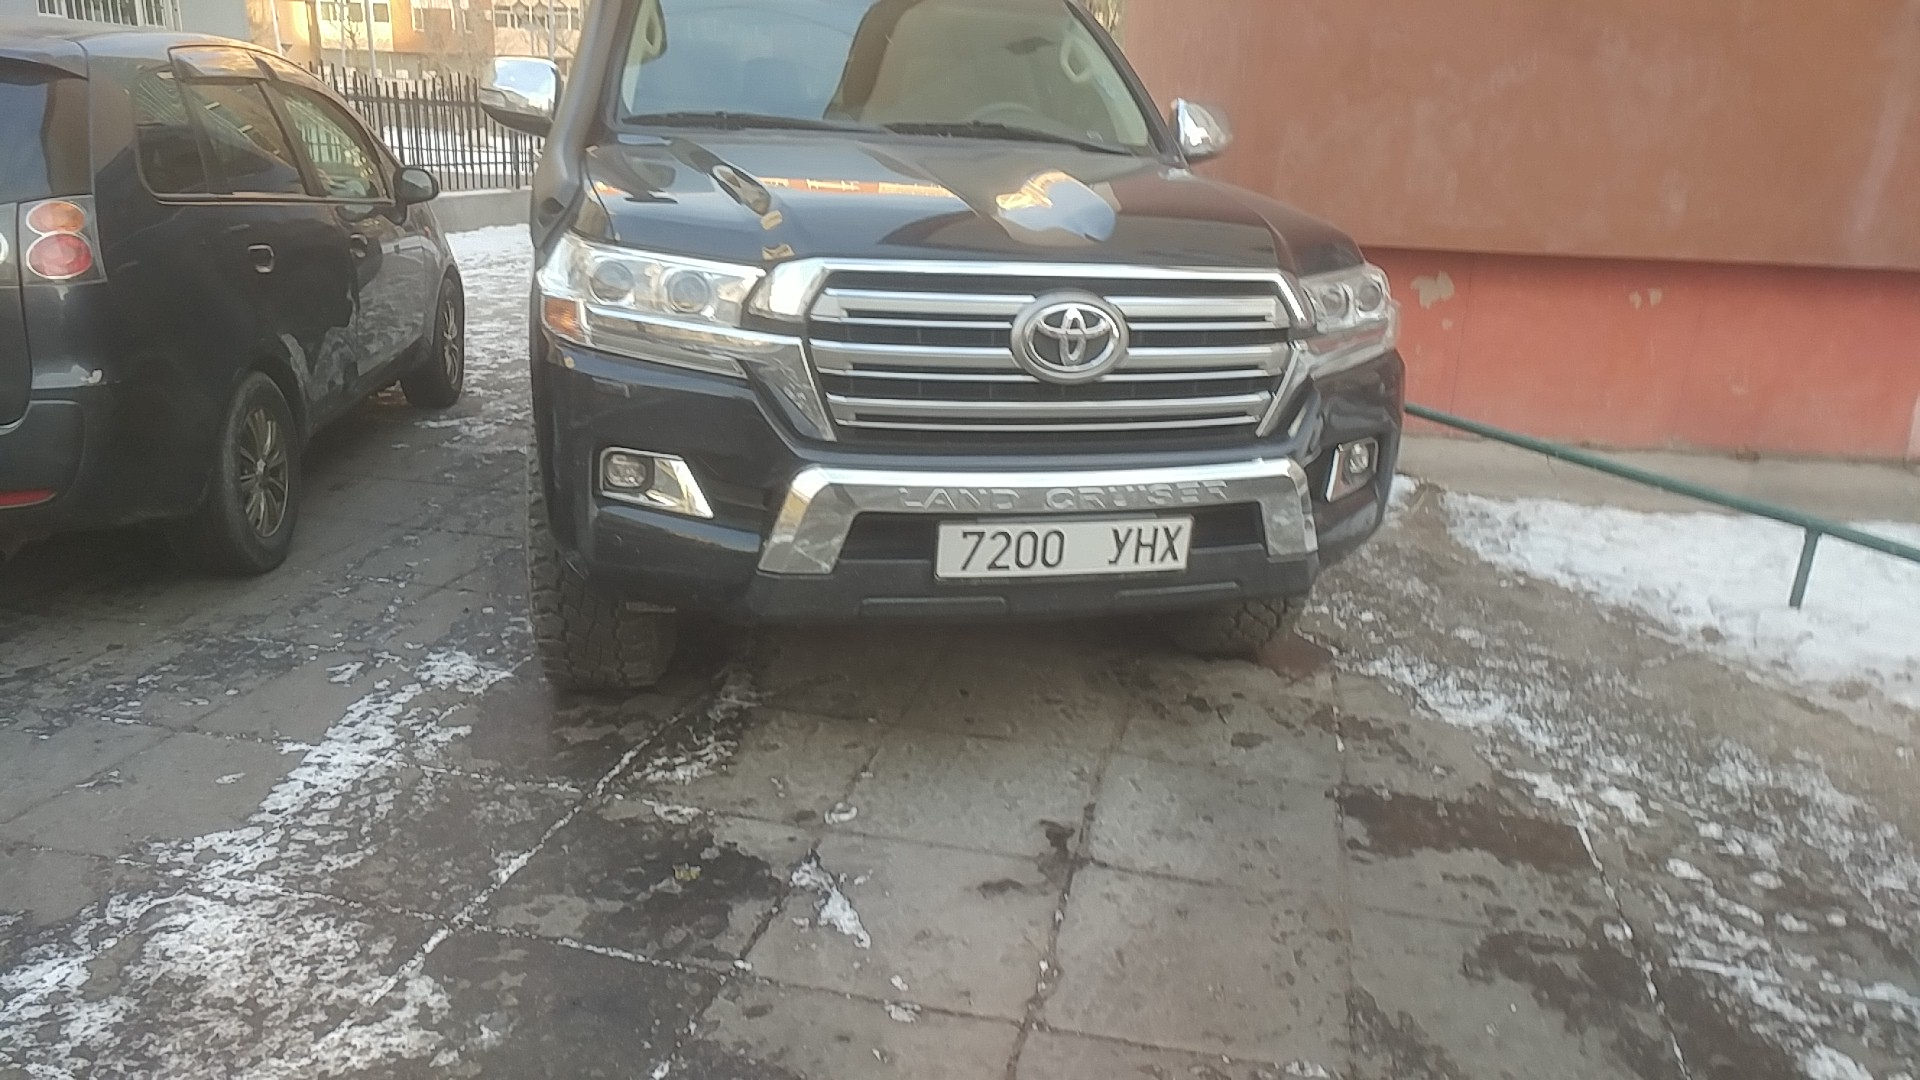0: (1015, 529, 1040, 570), (1040, 529, 1066, 568)
2: (986, 529, 1012, 572)
7: (959, 529, 985, 572)
h: (1157, 522, 1184, 563)
n: (1132, 525, 1159, 565)
plate: (931, 512, 1194, 581)
u: (1106, 525, 1134, 565)
